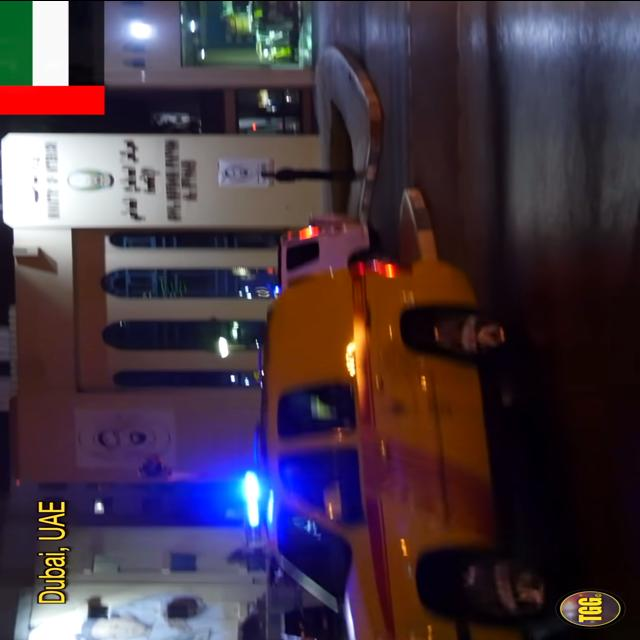emergency-vehicles: (221, 246, 550, 640)
